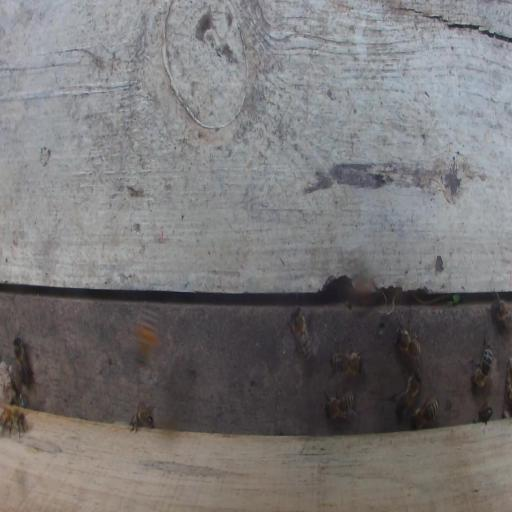nonpollenbee: (468, 333, 492, 390), (393, 369, 421, 416), (289, 307, 313, 361), (393, 322, 422, 365), (324, 390, 357, 423), (330, 345, 362, 376), (410, 396, 439, 430), (0, 404, 28, 439), (13, 336, 32, 385), (129, 402, 157, 432), (491, 291, 511, 330), (475, 402, 493, 424), (13, 391, 29, 407)
pollenbee: (134, 296, 160, 366)
